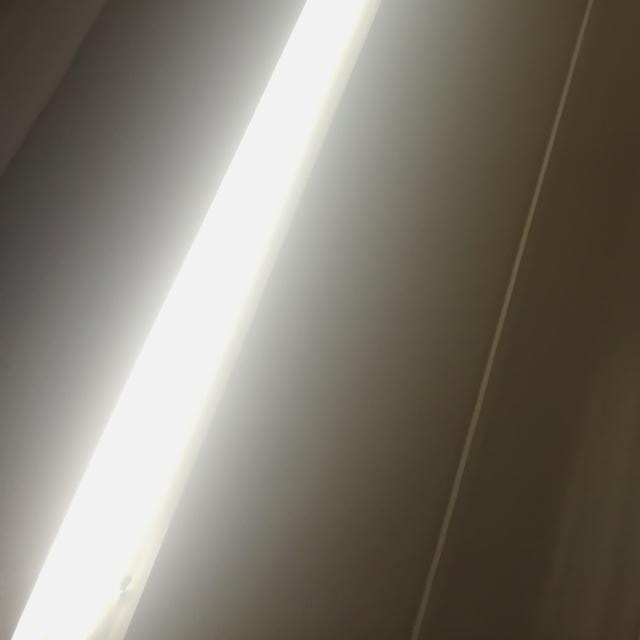fluorescent tube: (0, 0, 508, 640)
